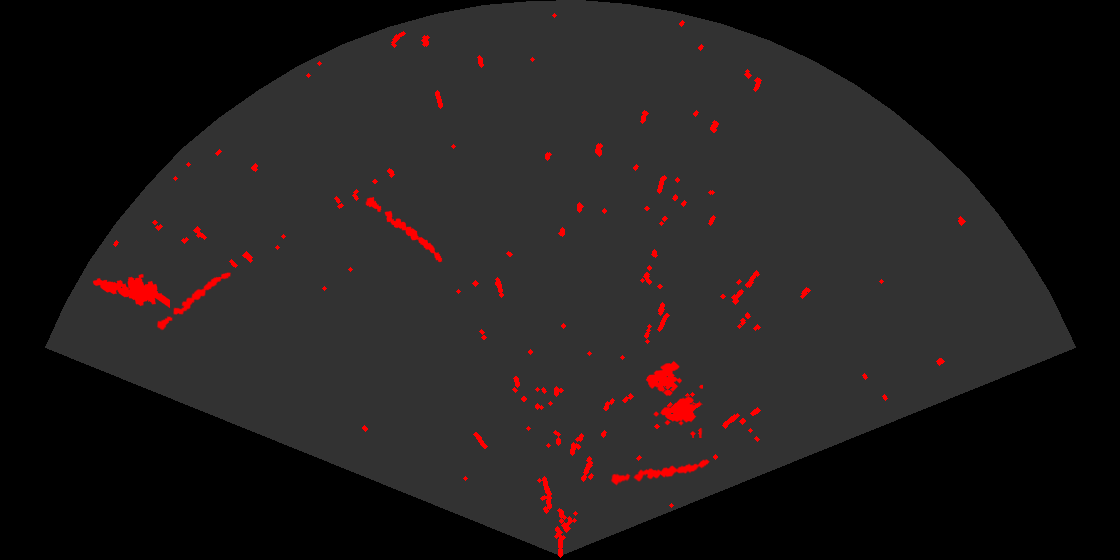cage: (644, 359, 703, 438)
chain: (364, 195, 444, 264), (155, 270, 233, 332), (609, 458, 711, 487)
frogman: (91, 272, 170, 310)
